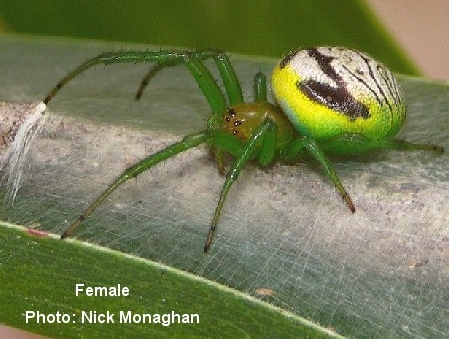spider: (18, 22, 437, 260)
